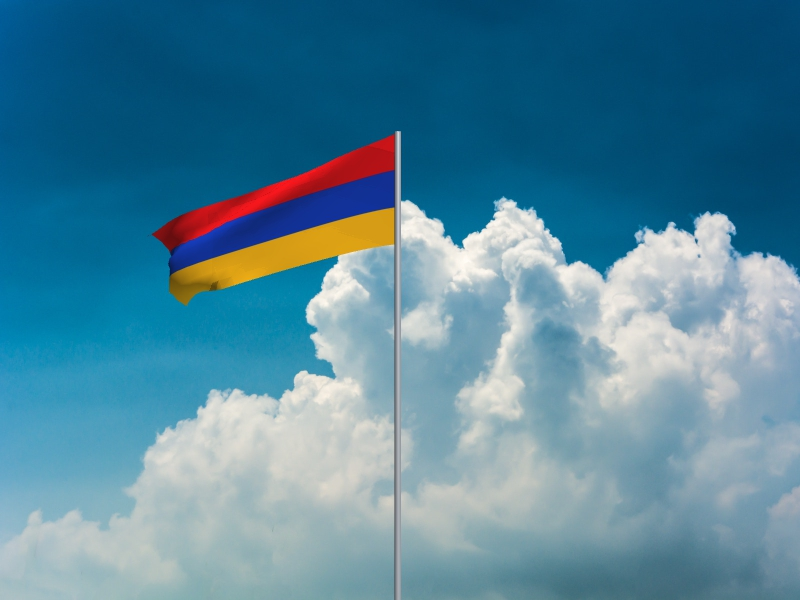am: (150, 135, 396, 308)
